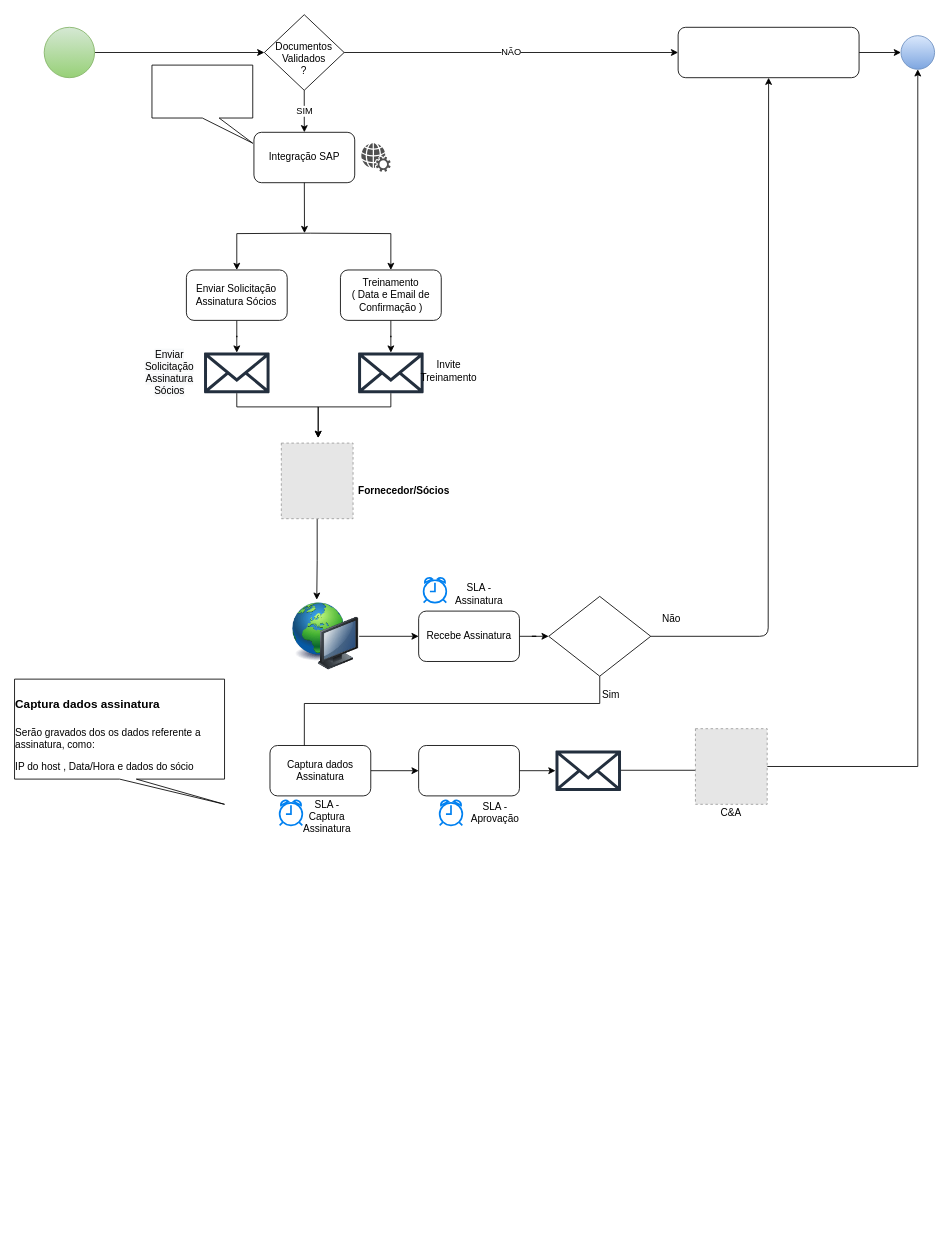
Some shapes in this 950 by 1241 pixel diagram are drawn without their labels. Grey dashed boxes stand in for pictures. The shapes that lost their labels are listed below. From the top down, each one's box as (x1, y1, x2, y2) in pixels, then its label:
(677, 26, 859, 78): Enviar p/ tela de consulta do fornecedor
(151, 64, 253, 143): Interação com SAP Guarda ID da inserção para integrações futuras.
(548, 596, 651, 676): Recebeu Assinatura ?
(418, 745, 519, 796): Enviar p/ aprovação time C&A
